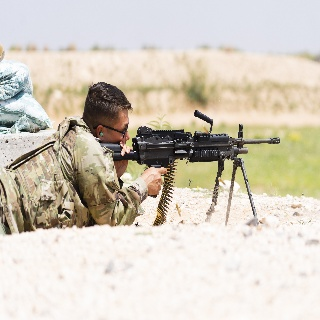rifle: (96, 108, 282, 226)
